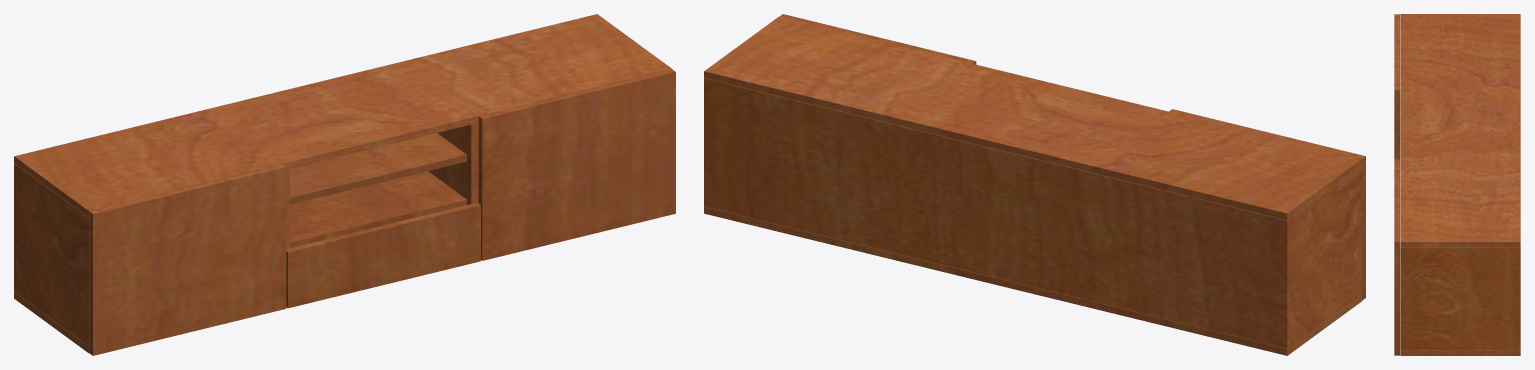
File: shelf.fbx
3 renders of one model, left to right at view 1: azimuth 30°, elevation 25°; view 2: azimuth 150°, elevation 25°; view 3: azimuth 270°, elevation 25°, orthographic. The views are drawn at different scales.
Visible parts, largest first — view 1: Cube_001; view 2: Cube_001; view 3: Cube_001.
Boxes of the visible parts, box(x1,y1,x2,y2) form: Cube_001: box(14, 14, 675, 355); Cube_001: box(704, 14, 1365, 355); Cube_001: box(1394, 14, 1520, 355).
Size of the model in its own units: 70.87 by 16.54 by 16.56.
